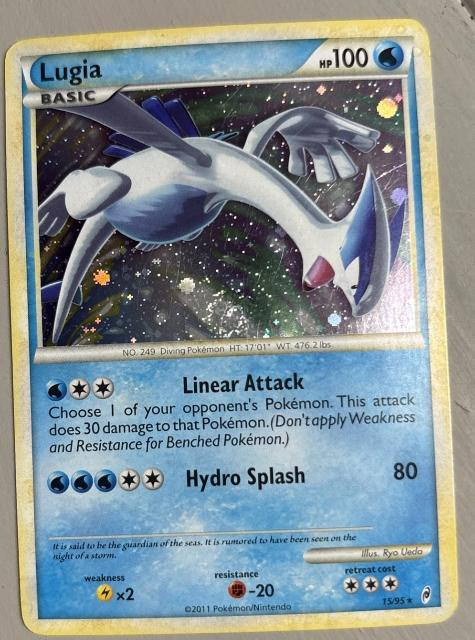Card: (1, 14, 462, 638)
Name: (35, 54, 110, 91)
